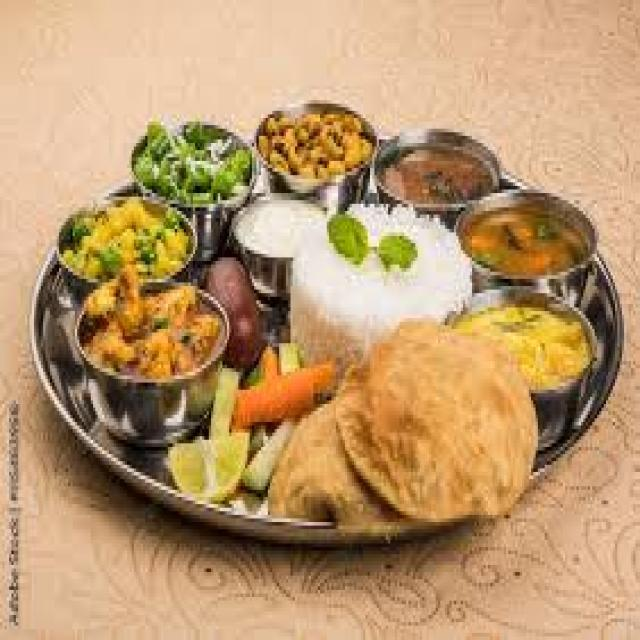curd: (236, 187, 328, 270)
dal: (471, 284, 600, 408)
rice: (304, 194, 463, 339)
roti: (292, 318, 538, 531)
sambar-rasam: (370, 129, 508, 215)
sweet: (205, 255, 269, 356)
veg-fry: (71, 257, 221, 400)
